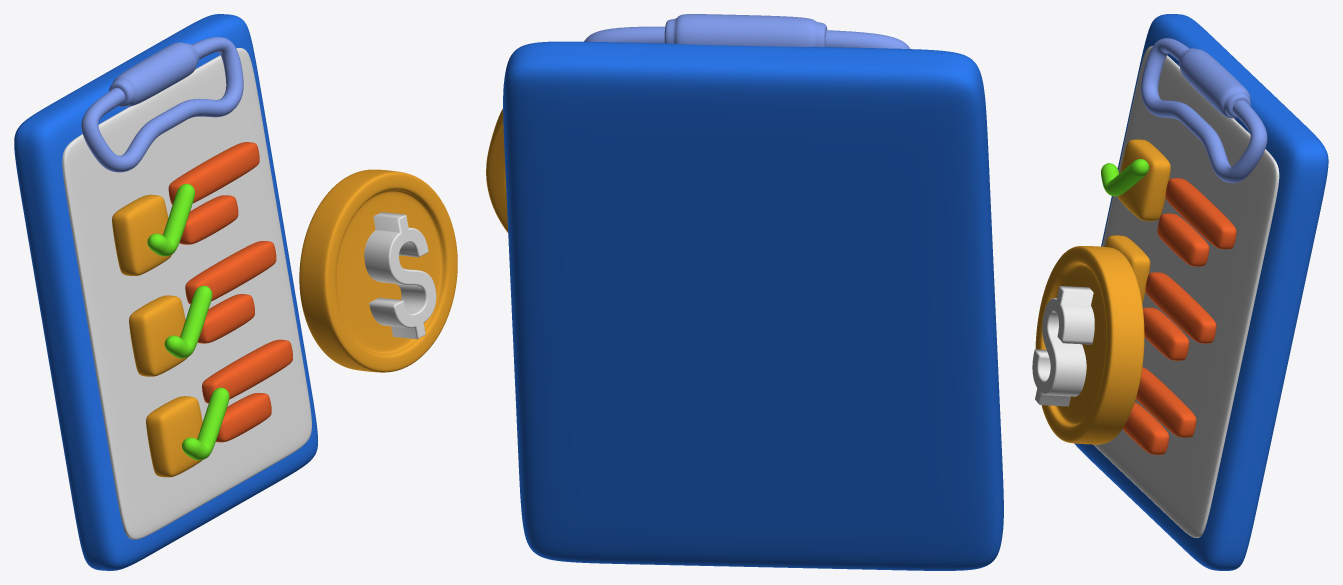
The model's file is financial-plan-3d-animated-icon-1707070155631.glb.
The picture shows the model from 3 angles, left to right: view 1: azimuth 30°, elevation 25°; view 2: azimuth 150°, elevation 25°; view 3: azimuth 270°, elevation 25°; orthographic projection. The views are drawn at different scales.
Visible parts, largest first — view 1: paper, board, coin, Clip arm, icon money, box 3, box 2, box 1, data 5, data 3, data 1, data 2 (+5 smaller); view 2: board, Clip arm, coin; view 3: paper, board, coin, Clip arm, icon money, box 1, data 3, data 1, data 5, data 2, data 4, data 6 (+2 smaller).
Boxes of the visible parts, left/top/right/bottom form: paper: left=62, top=48, right=311, bottom=539; board: left=14, top=14, right=317, bottom=570; coin: left=299, top=169, right=457, bottom=372; Clip arm: left=81, top=37, right=243, bottom=172; icon money: left=364, top=212, right=436, bottom=339; box 3: left=146, top=396, right=202, bottom=477; box 2: left=129, top=295, right=187, bottom=376; box 1: left=112, top=194, right=171, bottom=275; data 5: left=202, top=339, right=292, bottom=403; data 3: left=185, top=241, right=276, bottom=304; data 1: left=168, top=142, right=259, bottom=204; data 2: left=179, top=195, right=238, bottom=244; board: left=503, top=41, right=1003, bottom=570; Clip arm: left=584, top=14, right=910, bottom=48; coin: left=486, top=109, right=508, bottom=232; paper: left=1093, top=46, right=1279, bottom=538; board: left=1074, top=14, right=1328, bottom=570; coin: left=1035, top=246, right=1144, bottom=444; Clip arm: left=1141, top=38, right=1267, bottom=183; icon money: left=1032, top=286, right=1094, bottom=406; box 1: left=1117, top=139, right=1170, bottom=221; data 3: left=1145, top=272, right=1216, bottom=343; data 1: left=1165, top=178, right=1236, bottom=249; data 5: left=1136, top=367, right=1196, bottom=437; data 2: left=1157, top=213, right=1209, bottom=266; data 4: left=1143, top=307, right=1189, bottom=360; data 6: left=1122, top=402, right=1169, bottom=454.
Bounding box in the file's own units: 2.85 × 2.98 × 1.83.
